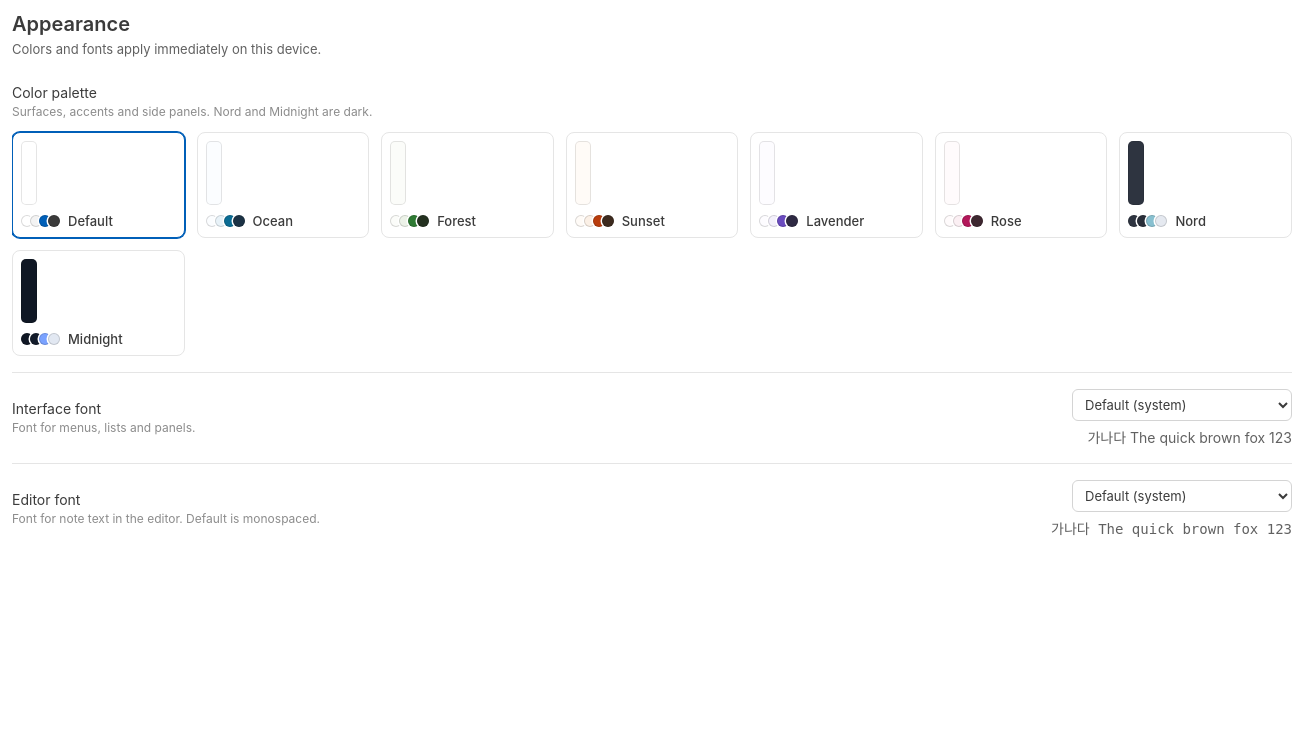
AppearanceSection › shows an error and refreshes when saving fails
Click the radio button labelled "Rose": (1021, 185) x1=935 y1=132 x2=1107 y2=238
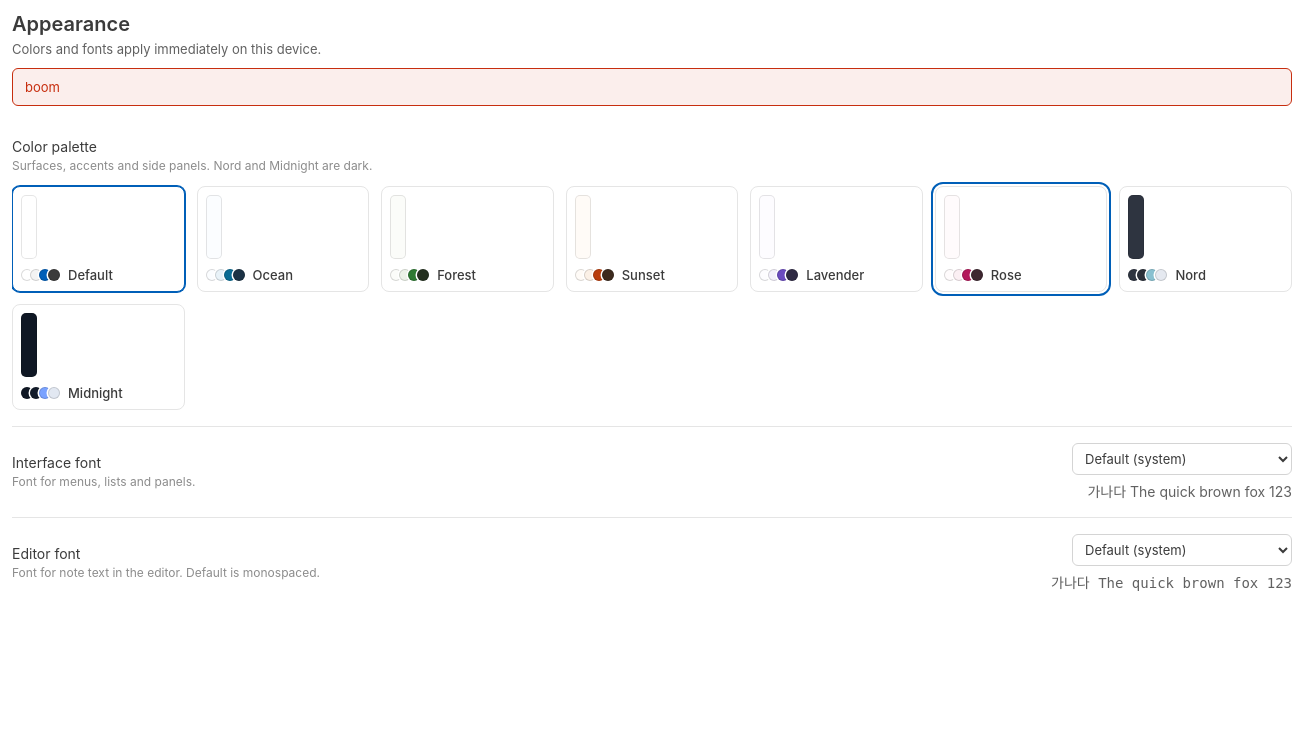
Expected: the message reads "boom", x1=25 y1=78 x2=60 y2=94
